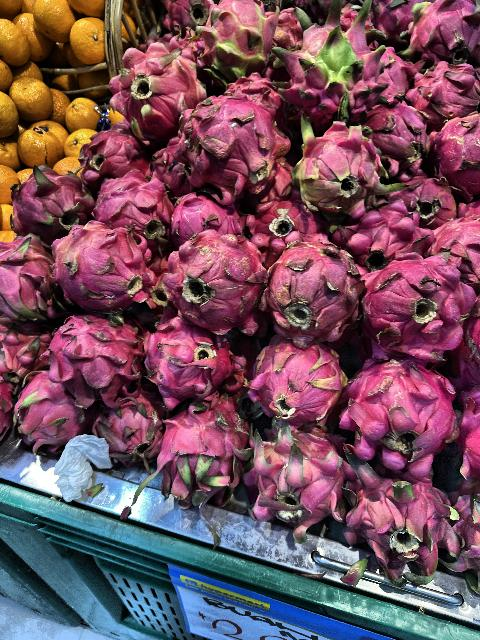buah-naga-belum-matang: (276, 0, 384, 116), (292, 113, 392, 214), (195, 0, 281, 68)
buah-naga-matang: (341, 453, 458, 577), (180, 88, 290, 208), (248, 426, 354, 548), (361, 252, 475, 360), (348, 358, 454, 472), (158, 240, 266, 336), (272, 240, 362, 346), (145, 312, 247, 402), (98, 42, 204, 128), (49, 224, 151, 310), (162, 410, 248, 504), (50, 320, 146, 402), (253, 337, 341, 423), (10, 164, 92, 236), (402, 1, 480, 74), (14, 380, 84, 456), (95, 394, 163, 472), (335, 200, 417, 262), (95, 171, 169, 235), (408, 55, 480, 119), (1, 238, 54, 320), (426, 116, 480, 194), (364, 108, 424, 164), (86, 128, 146, 182), (170, 192, 244, 235), (0, 321, 50, 381)
